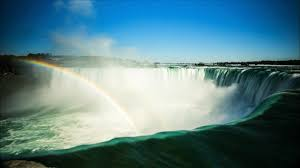sky: (5, 1, 298, 60)
waterfall: (6, 68, 292, 135)
